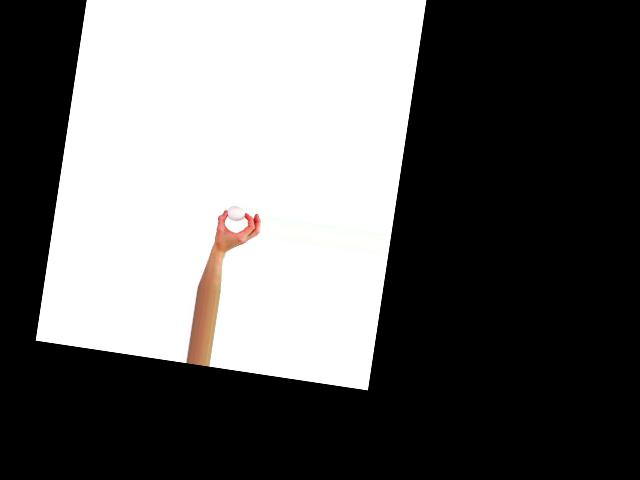egg: (225, 205, 246, 222)
